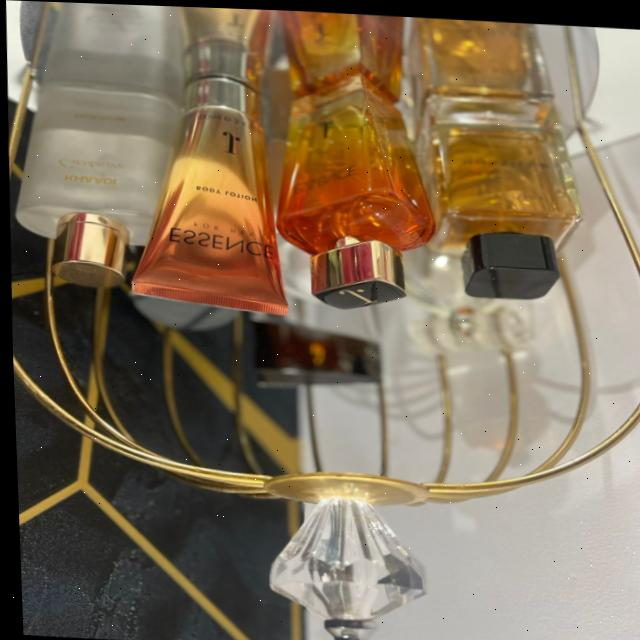foundation: (151, 61, 319, 319)
perfume: (309, 84, 596, 334)
setting spray: (3, 73, 158, 299)
